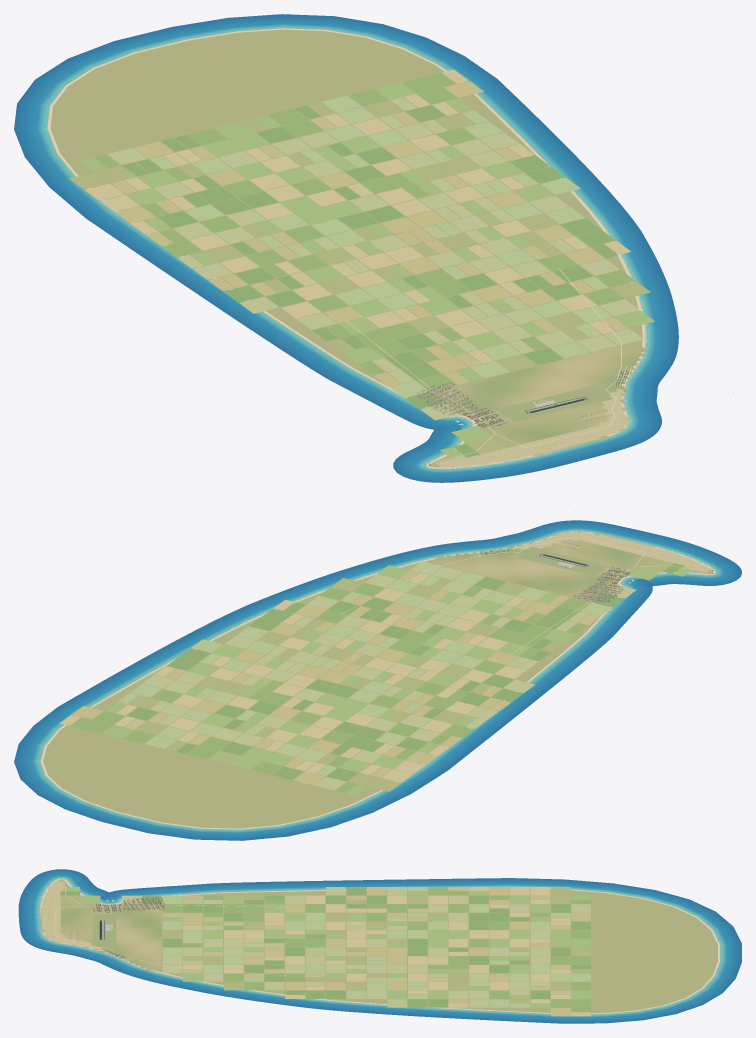
File: land.glb
The picture shows the model from 3 angles, top to bottom: view 1: azimuth 30°, elevation 25°; view 2: azimuth 150°, elevation 25°; view 3: azimuth 270°, elevation 25°; orthographic projection. The views are drawn at different scales.
Visible parts, largest first — view 1: decal-fields, decal-cape, decal-sea-shore, decal-moor, decal-dunes, decal-beach-dry, decal-airport, buildings, decal-beach-wet; view 2: decal-fields, decal-cape, decal-sea-shore, decal-moor, decal-beach-dry, decal-dunes, decal-airport, buildings, decal-beach-wet, decal-roads; view 3: decal-fields, decal-cape, decal-sea-shore, decal-moor, decal-beach-dry, decal-dunes, decal-airport, decal-beach-wet, buildings, decal-roads.
Boxes of the visible parts, x1,y1,x2,y2 form: decal-fields: (69, 69, 654, 458); decal-cape: (50, 29, 642, 467); decal-sea-shore: (14, 14, 678, 482); decal-moor: (443, 342, 647, 455); decal-dunes: (436, 388, 628, 468); decal-beach-dry: (47, 28, 645, 468); decal-airport: (497, 385, 611, 421); buildings: (416, 370, 741, 465); decal-beach-wet: (47, 28, 645, 468); decal-fields: (60, 558, 692, 795); decal-cape: (43, 534, 712, 828); decal-sea-shore: (14, 520, 741, 840); decal-moor: (430, 530, 654, 599); decal-beach-dry: (40, 531, 715, 829); decal-dunes: (512, 531, 711, 572); decal-airport: (517, 547, 607, 575); buildings: (473, 511, 713, 603); decal-beach-wet: (40, 531, 715, 829); decal-roads: (341, 537, 703, 654); decal-fields: (60, 887, 590, 1016); decal-cape: (44, 879, 717, 1013); decal-sea-shore: (18, 869, 741, 1023); decal-moor: (40, 908, 161, 970); decal-beach-dry: (40, 878, 719, 1014); decal-dunes: (42, 881, 103, 950); decal-airport: (93, 914, 116, 945); decal-beach-wet: (40, 878, 720, 1014); buildings: (61, 876, 165, 959); decal-roads: (55, 882, 286, 975).
Bounding box in the file's own units: 23620 × 215 × 47012.
